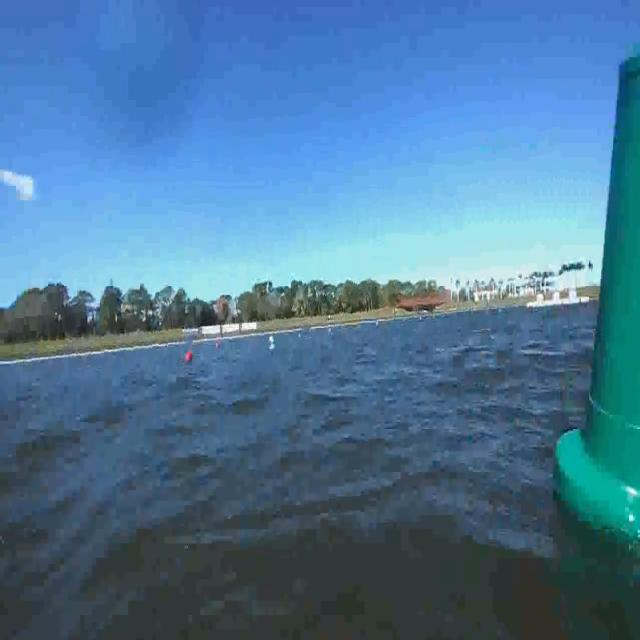green-buoy: (270, 342, 276, 352)
green-column-buoy: (557, 40, 640, 626)
red-buoy: (185, 350, 193, 362), (216, 340, 221, 350)
yellow-buoy: (268, 334, 276, 344)
